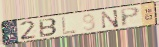2: (19, 20, 39, 41)
9: (81, 12, 97, 32)
B: (38, 17, 59, 38)
L: (61, 15, 78, 36)
N: (100, 8, 120, 30)
P: (119, 6, 141, 28)
